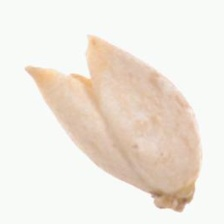L1: (24, 34, 99, 93), (149, 184, 199, 212)
L2: (26, 35, 202, 212)
